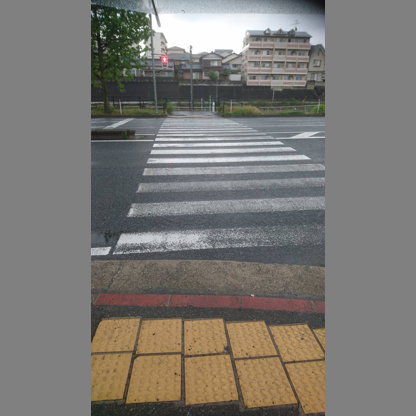brailleblock: (241, 327, 313, 408), (127, 317, 180, 402), (179, 321, 226, 405), (93, 316, 134, 404), (221, 318, 264, 400)
crosswalk: (144, 163, 322, 212), (155, 139, 282, 185), (158, 126, 254, 159)
signal: (161, 55, 168, 68)
